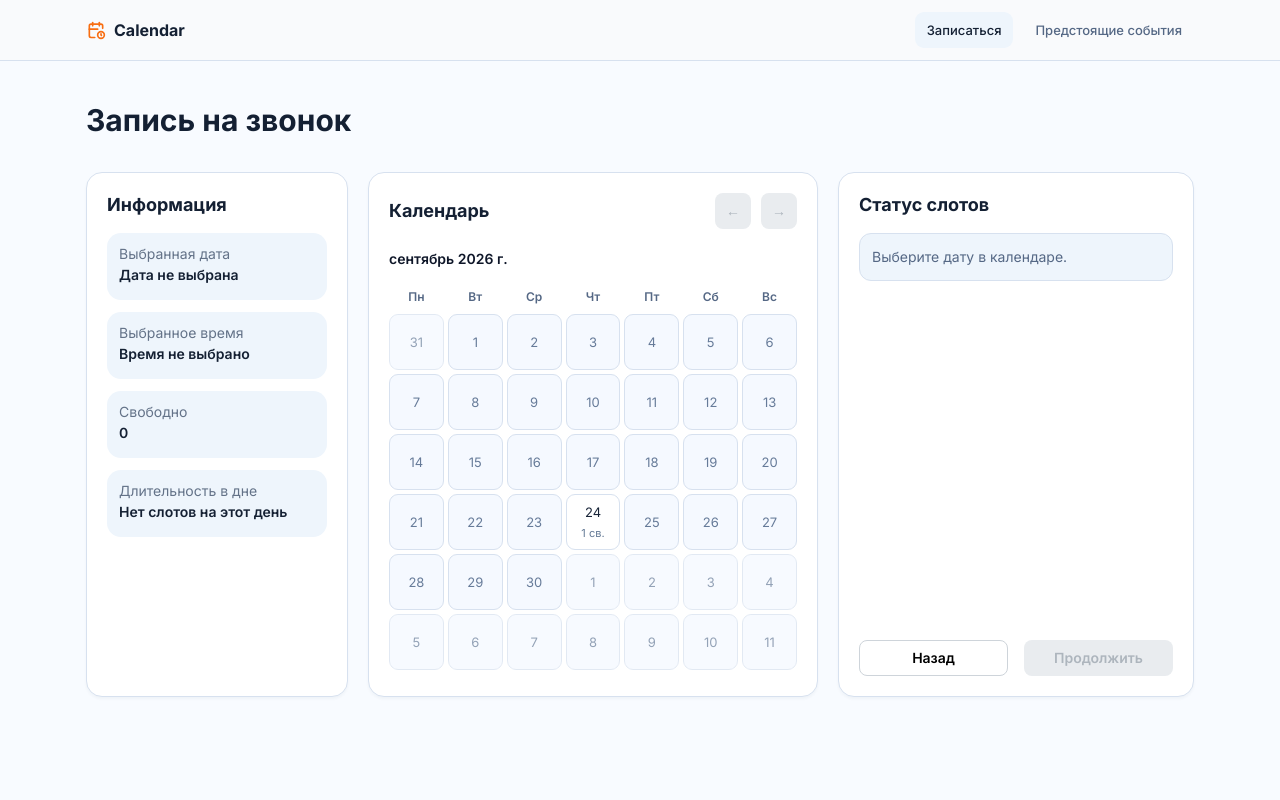
Test: calendar pages › keeps the form and fields after a failed submission for retry
Click the button with aria-label "24 сентября". click: click(593, 522)
box: x1=566 y1=494 x2=620 y2=550
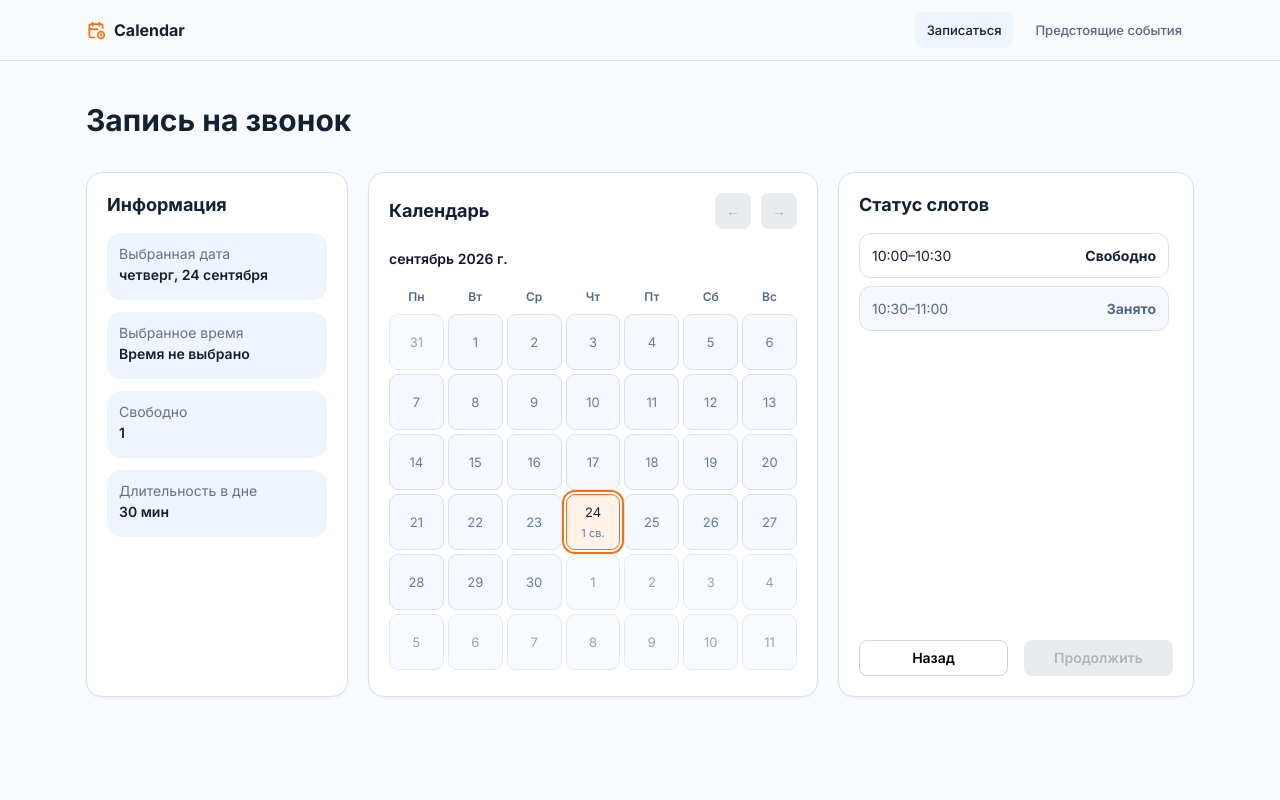
Click the button "10:00–10:30 Свободно". click: click(890, 256)
box: x1=859 y1=233 x2=1169 y2=278
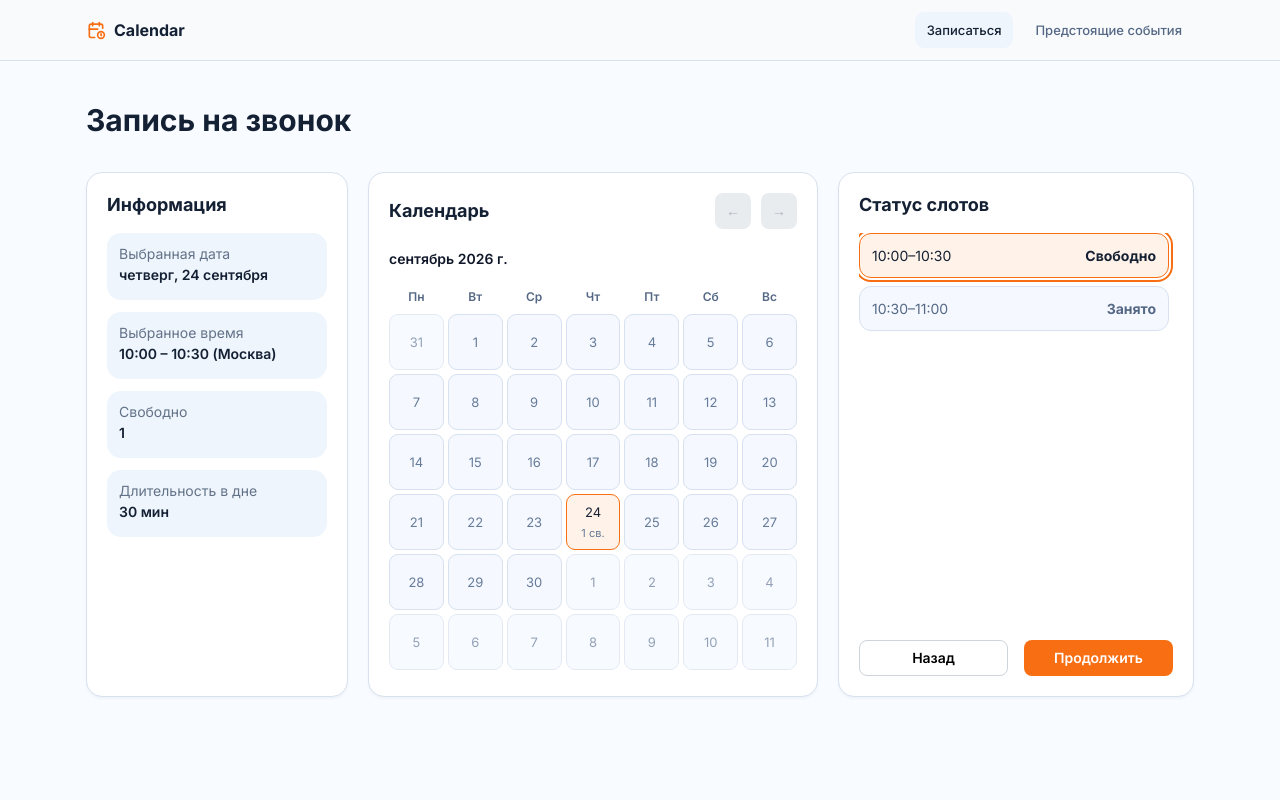
Click the button "Продолжить". click: click(1098, 658)
box: x1=1024 y1=640 x2=1173 y2=676
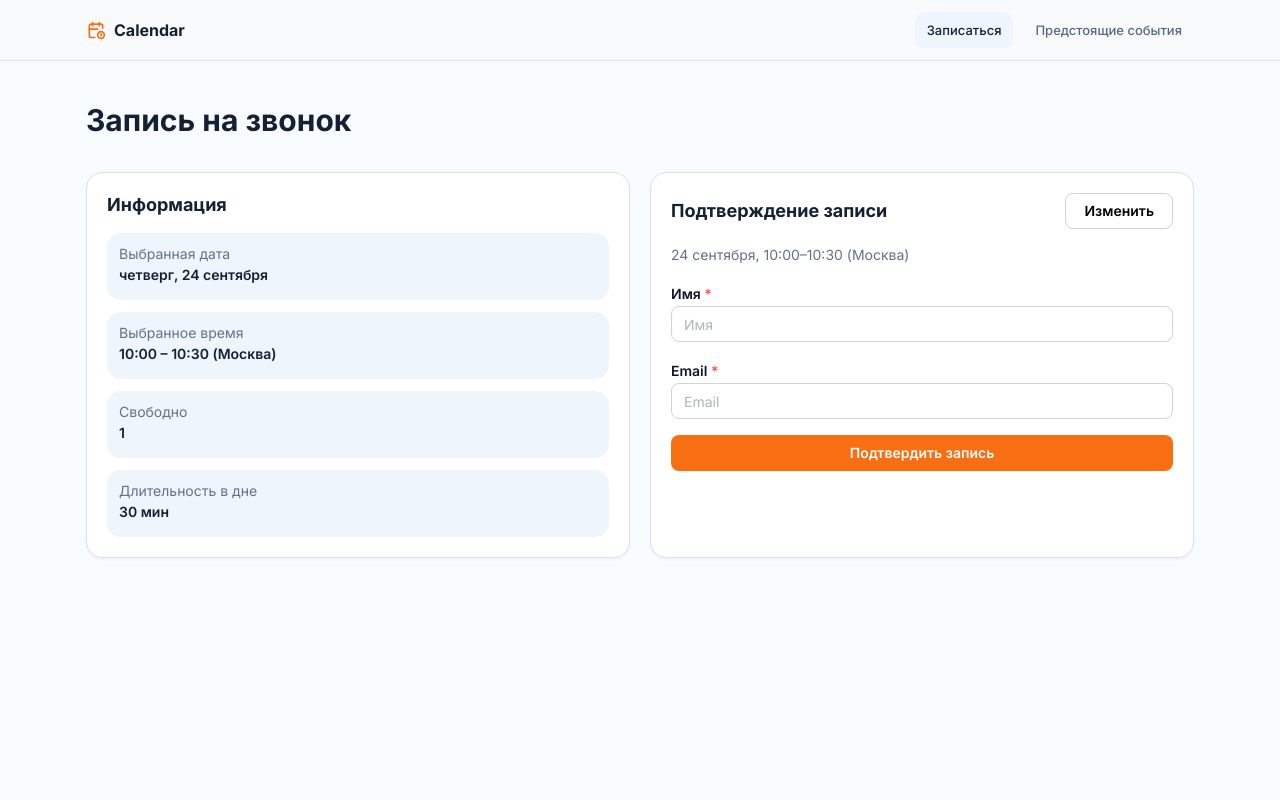
Type "Guest" into the field labelled "Имя". click: (922, 324)
box: x1=671 y1=306 x2=1173 y2=342
Type "guest@example.com" into the field labelled "Email". click: (922, 401)
box: x1=671 y1=383 x2=1173 y2=419
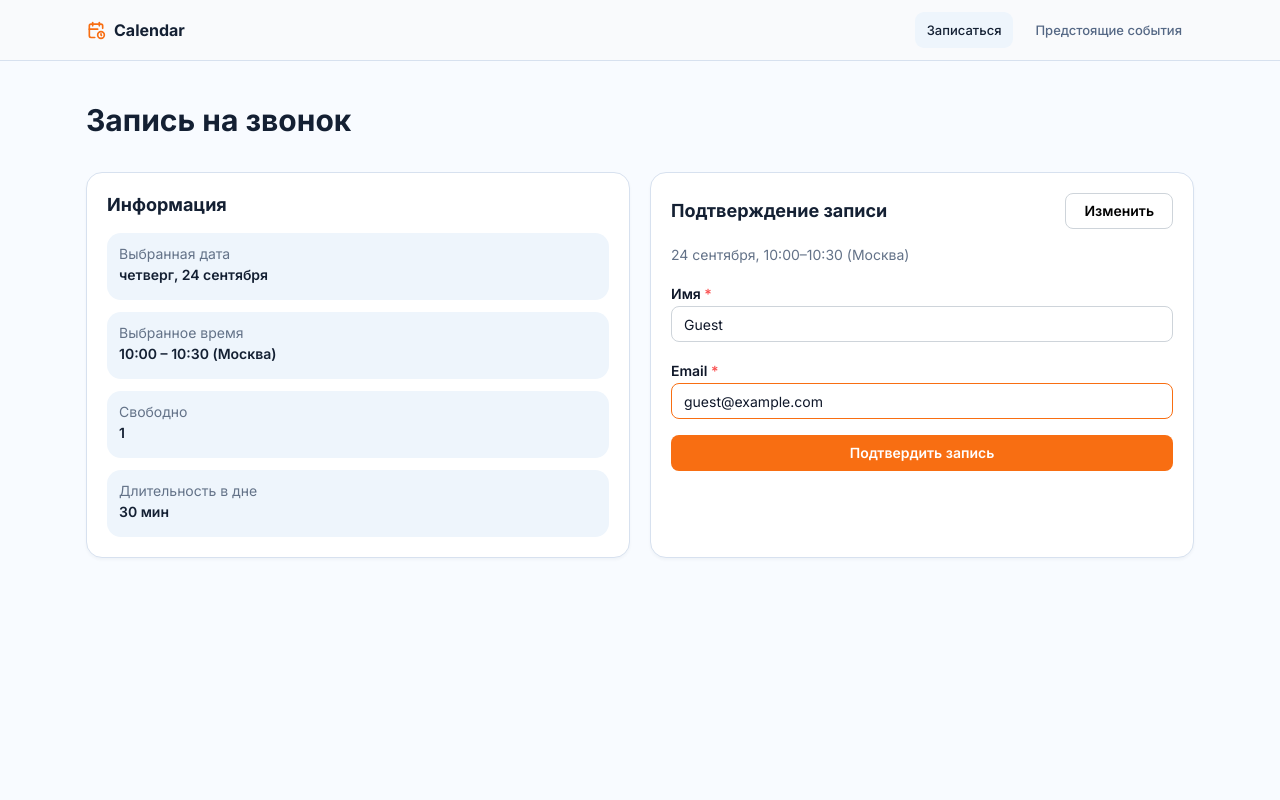
Click the button "Подтвердить запись". click: click(922, 453)
box: x1=671 y1=435 x2=1173 y2=471
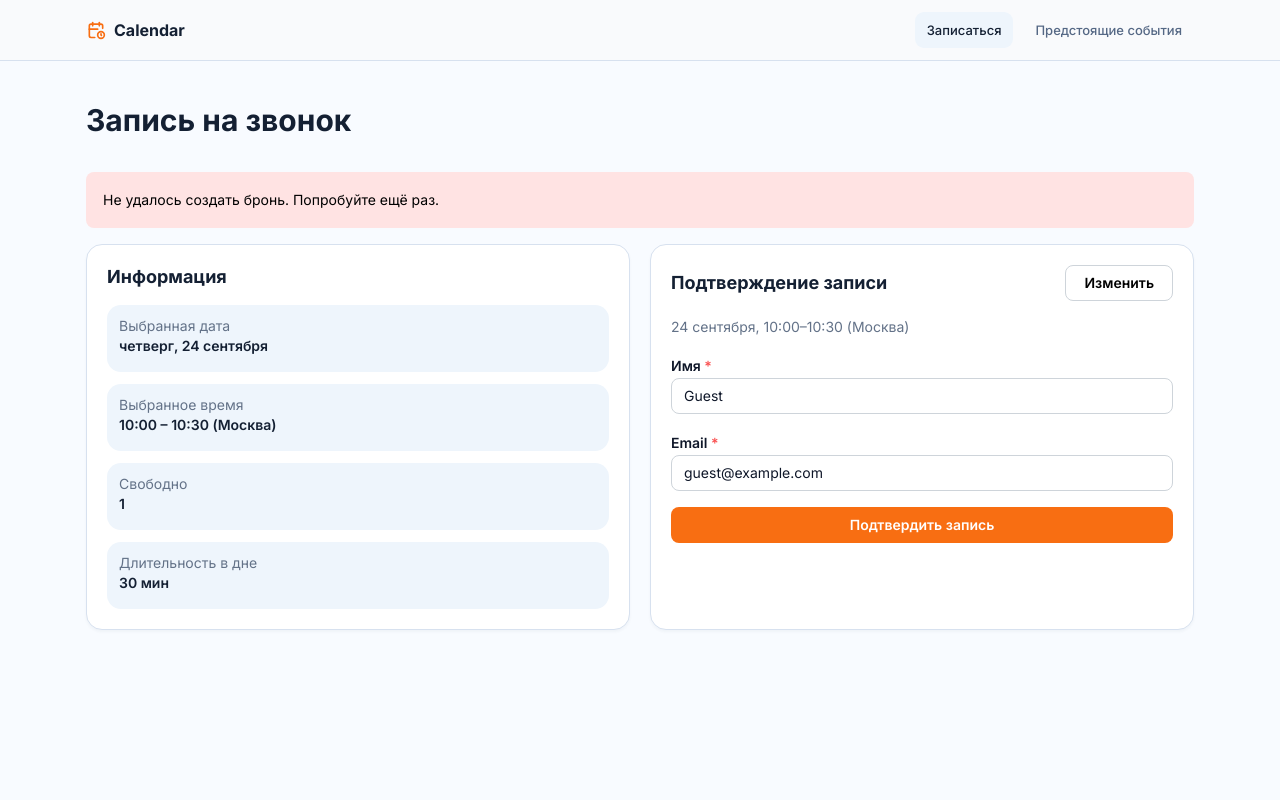
Now the text "Не удалось создать бронь. Попробуйте ещё раз." is shown, box x1=103 y1=191 x2=439 y2=208
Click the button "Подтвердить запись". click: click(922, 525)
box: x1=671 y1=507 x2=1173 y2=543
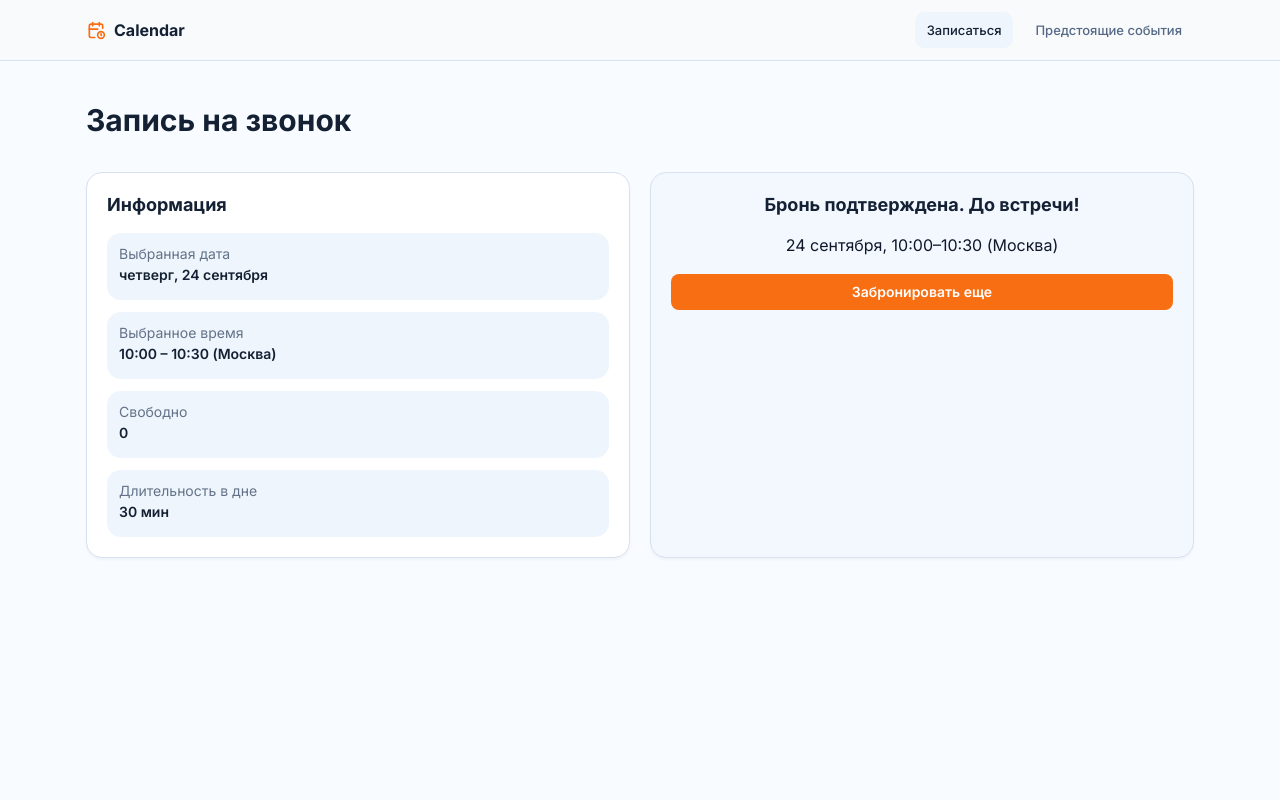
Now the heading "Бронь подтверждена. До встречи!" is shown, box x1=764 y1=194 x2=1080 y2=215
